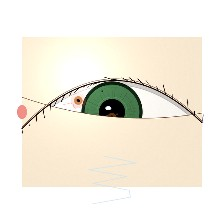foreign_body_visible: (101, 109, 123, 127)
